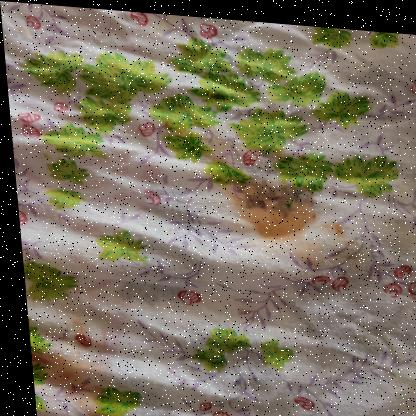spot: (137, 104, 355, 280), (22, 306, 136, 416), (377, 319, 416, 416)
